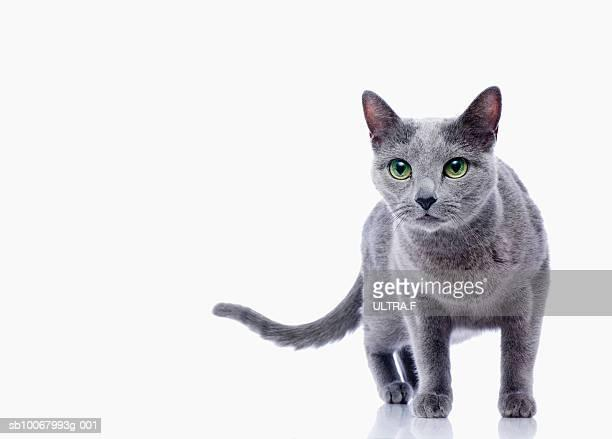rblue: (358, 82, 510, 240)
